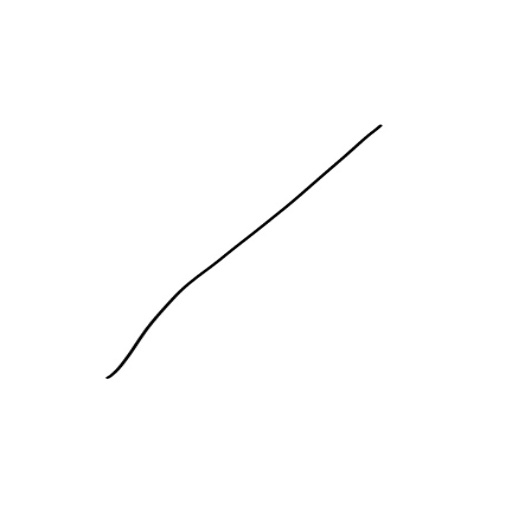line: (100, 118, 388, 384)
